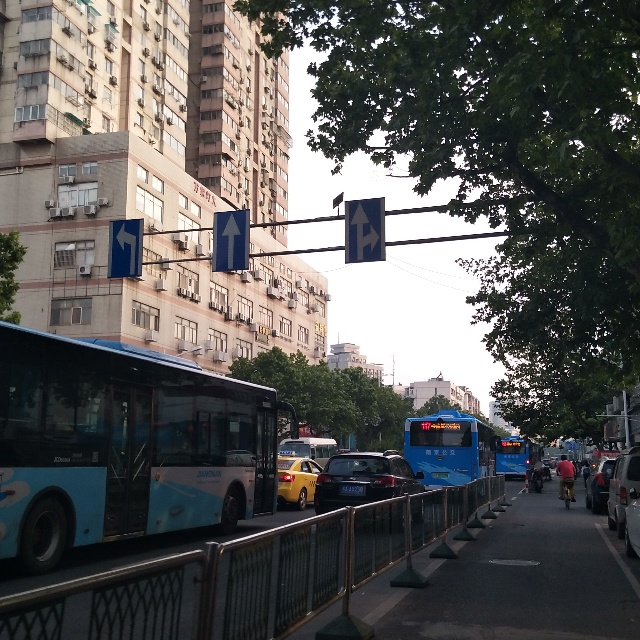left: (114, 223, 143, 278)
straight: (216, 211, 245, 270)
